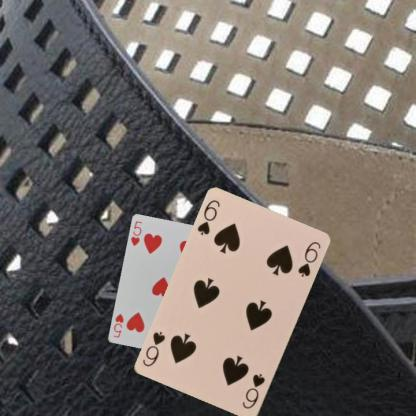5h: (128, 219, 144, 248)
6s: (240, 371, 266, 411), (195, 197, 221, 237)
